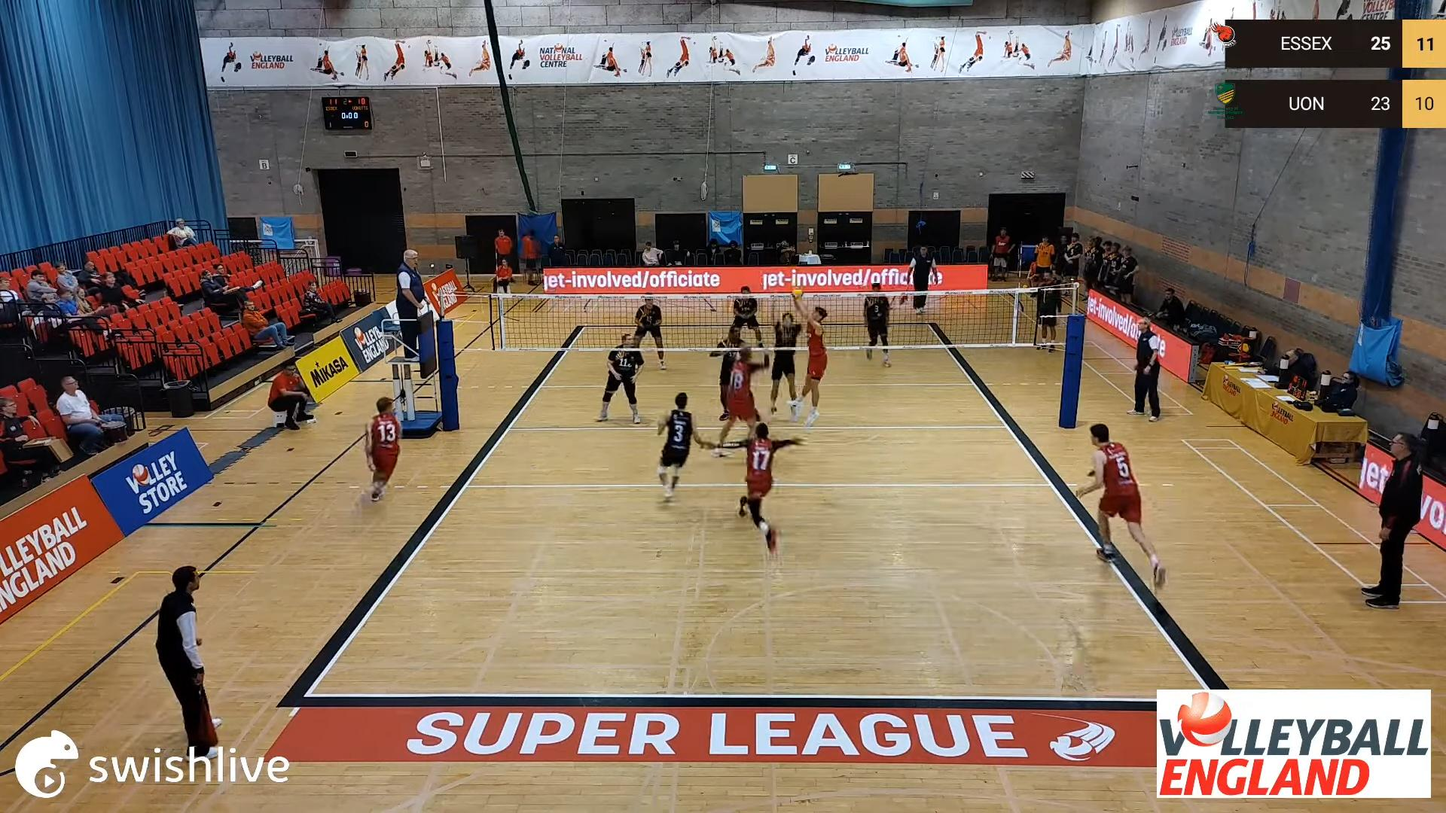alzata: (790, 296, 830, 414)
